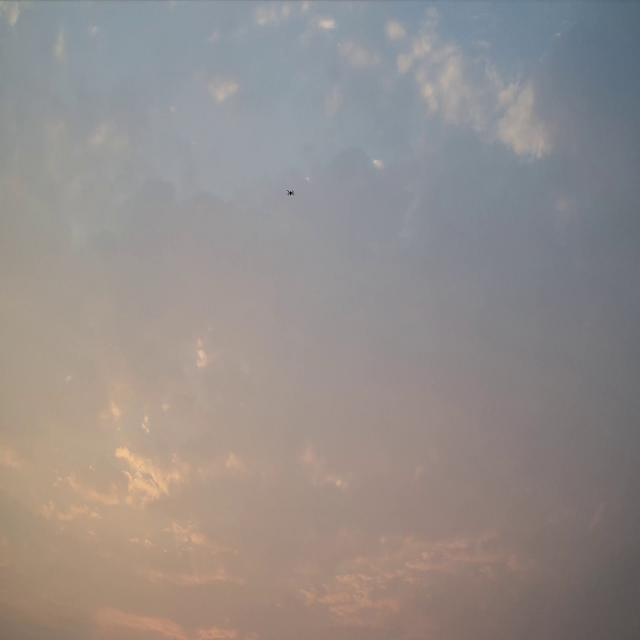UAV: (286, 188, 295, 196)
